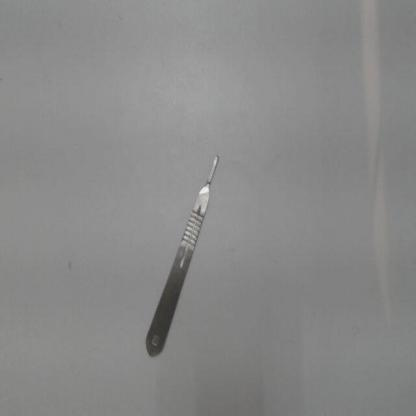No.3 BP Handle: (137, 146, 234, 367)
